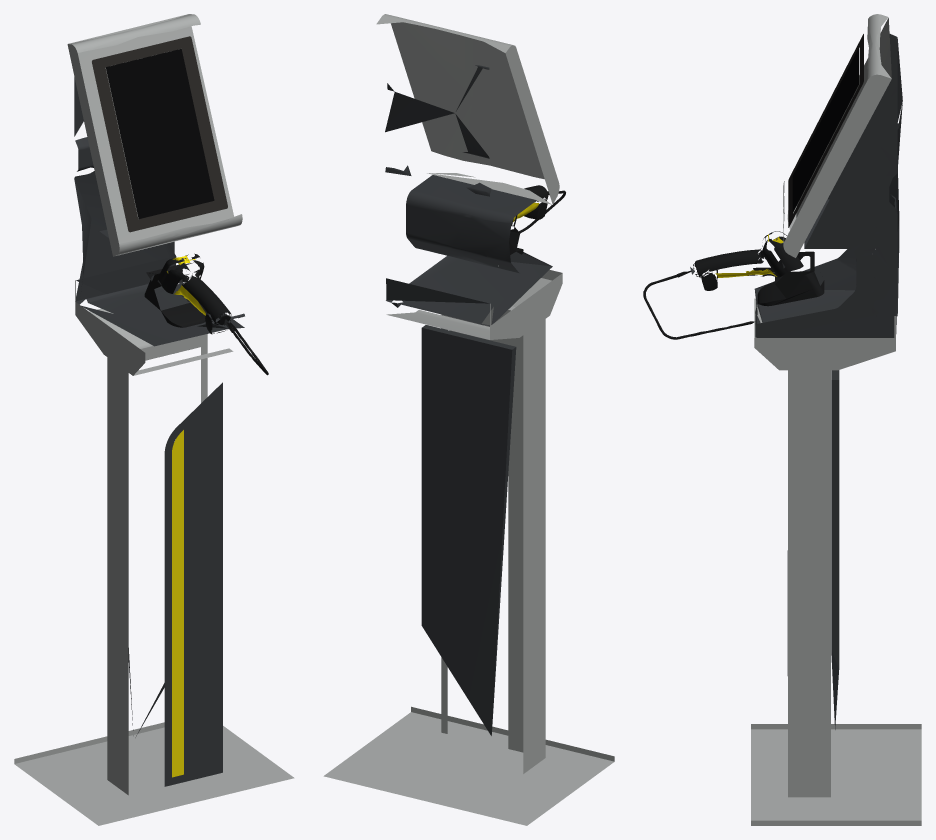
File: zidcode_lo.glb
The picture shows the model from 3 angles, left to right: view 1: azimuth 30°, elevation 25°; view 2: azimuth 150°, elevation 25°; view 3: azimuth 270°, elevation 25°; orthographic projection. The views are drawn at different scales.
Parts seen in each view (by area): view 1: zidcode_lo; view 2: zidcode_lo; view 3: zidcode_lo.
Boxes of the visible parts, box(x1,y1,x2,y2) form: zidcode_lo: box(14, 14, 294, 825); zidcode_lo: box(323, 14, 614, 825); zidcode_lo: box(643, 14, 921, 825).
Bounding box in the file's own units: 0.402 × 1.42 × 0.489.
